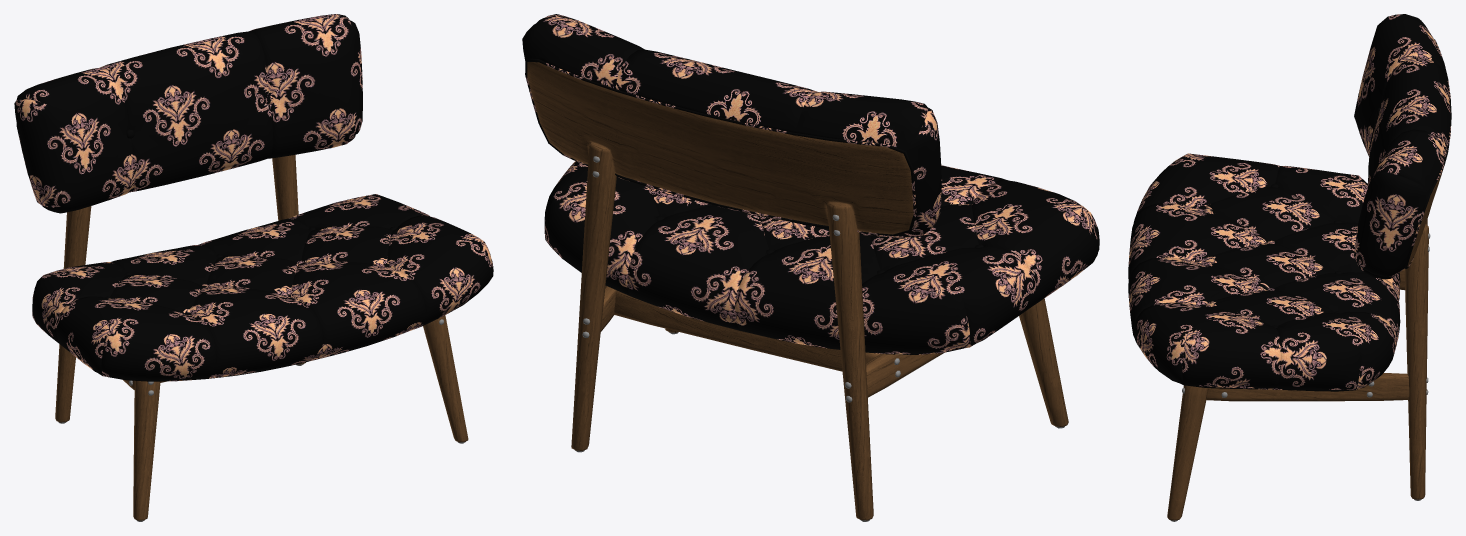
File: damaskchair.glb
The picture shows the model from 3 angles, left to right: view 1: azimuth 30°, elevation 25°; view 2: azimuth 150°, elevation 25°; view 3: azimuth 270°, elevation 25°; orthographic projection. The views are drawn at different scales.
Parts seen in each view (by area): view 1: oval-tufted-chair_back-fabric, oval-tufted-chair_legs-frame; view 2: oval-tufted-chair_back-fabric, oval-tufted-chair_legs-frame; view 3: oval-tufted-chair_back-fabric, oval-tufted-chair_legs-frame.
Boxes of the visible parts, x1,y1,x2,y2 form: oval-tufted-chair_back-fabric: (14, 14, 493, 381); oval-tufted-chair_legs-frame: (55, 154, 468, 520); oval-tufted-chair_back-fabric: (522, 14, 1099, 354); oval-tufted-chair_legs-frame: (527, 62, 1068, 520); oval-tufted-chair_back-fabric: (1128, 14, 1451, 391); oval-tufted-chair_legs-frame: (1167, 169, 1443, 520).
Size of the model in its own units: 0.8286 by 0.6874 by 0.5718.
4 materials, 3 textured.
